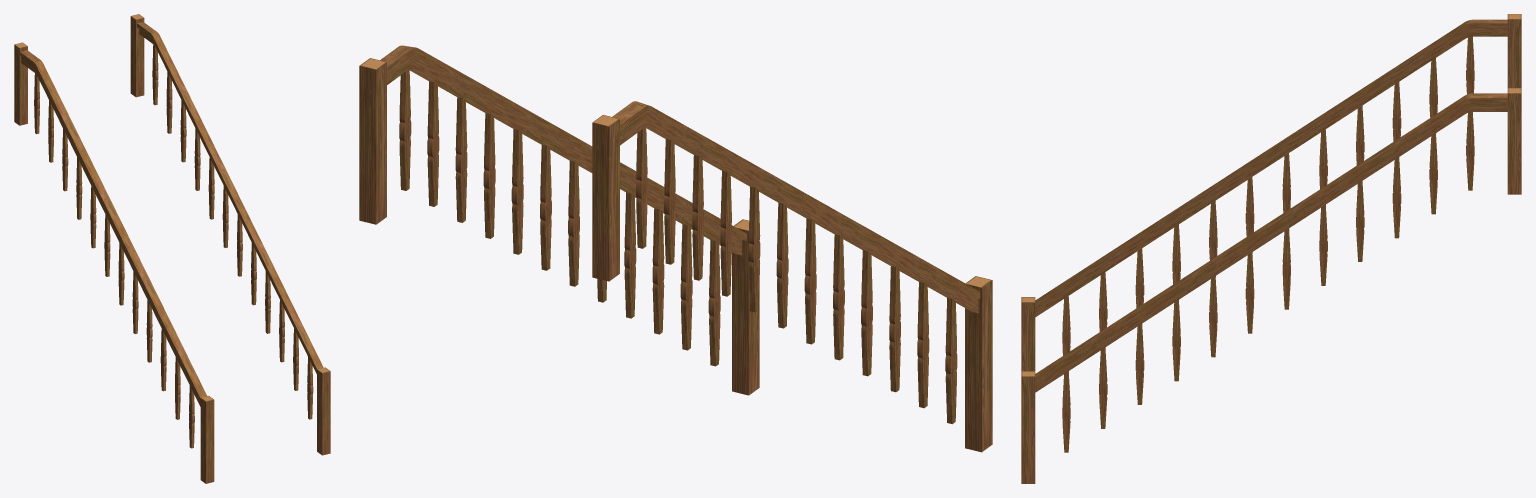
Rendered from stair_interior_rails.glb.
The picture shows the model from 3 angles, left to right: view 1: azimuth 30°, elevation 25°; view 2: azimuth 150°, elevation 25°; view 3: azimuth 270°, elevation 25°; orthographic projection. The views are drawn at different scales.
Size of the model in its own units: 1.72 by 3.93 by 4.56.
1 material, 1 textured.
